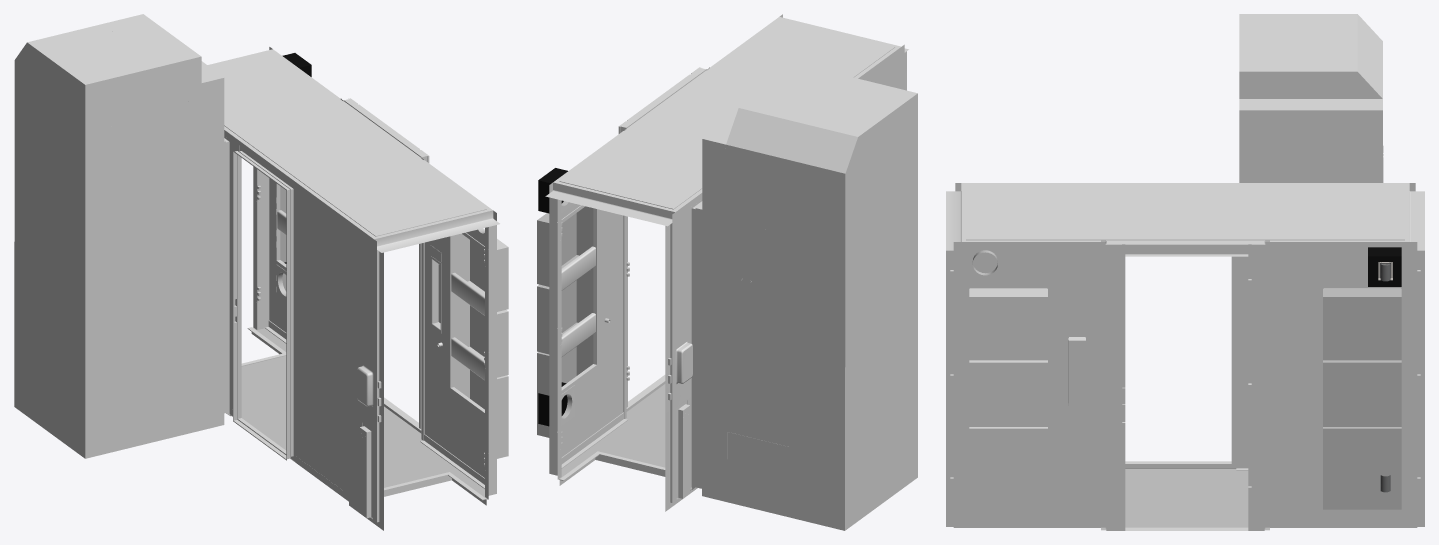
File: Vagon_body_inner_tambur_01.fbx
3 views of the same model, side by side, from view 1: azimuth 30°, elevation 25°; view 2: azimuth 150°, elevation 25°; view 3: azimuth 270°, elevation 25° (orthographic). The views are drawn at different scales.
Visible parts, largest first — view 1: Vagon_body_inner_tambur_01; view 2: Vagon_body_inner_tambur_01, Vagon_body_inner_tambur_back_dop.003, Vagon_body_inner_tambur_back_dop.002; view 3: Vagon_body_inner_tambur_01, Vagon_body_inner_tambur_back_dop.003.
Boxes of the visible parts, x1,y1,x2,y2 form: Vagon_body_inner_tambur_01: (14,14,508,530); Vagon_body_inner_tambur_01: (537,14,917,530); Vagon_body_inner_tambur_back_dop.003: (538,168,567,213); Vagon_body_inner_tambur_back_dop.002: (538,382,567,426); Vagon_body_inner_tambur_01: (946,14,1424,530); Vagon_body_inner_tambur_back_dop.003: (1368,247,1401,286).
Bounding box in the file's own units: 2.25 × 2.76 × 3.11.
